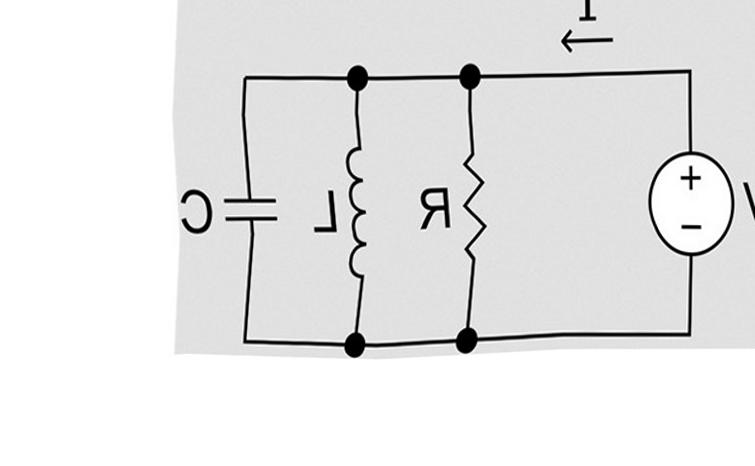Battery: (631, 132, 746, 262)
